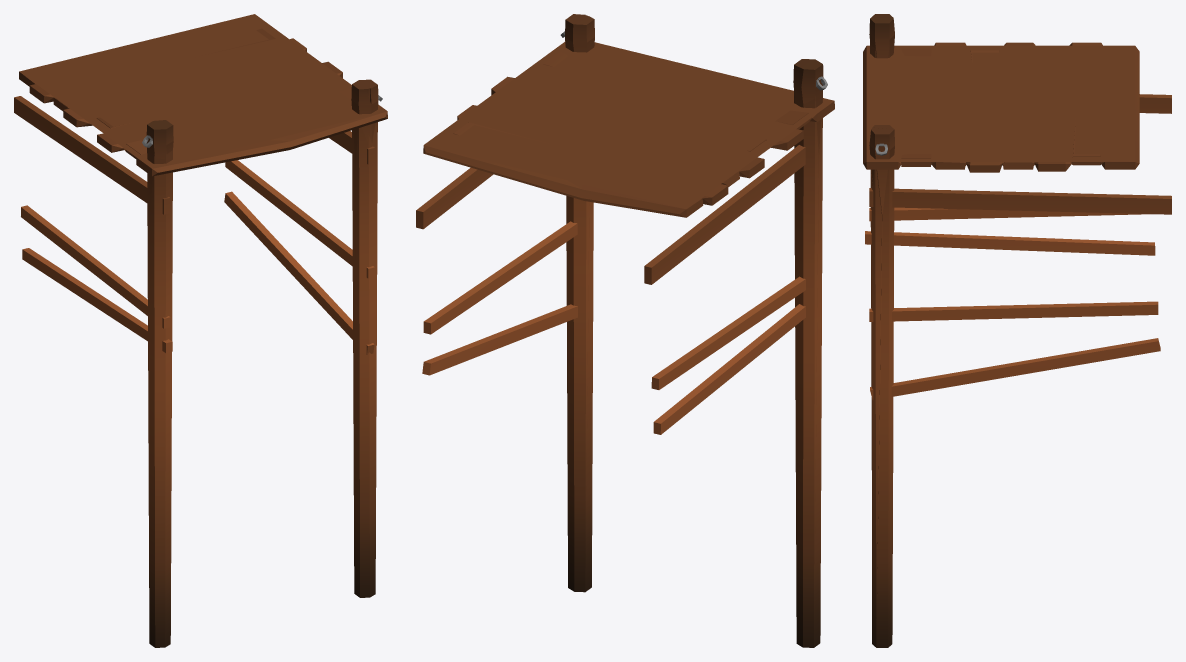
File: Dock 02.fbx
3 views of the same model, side by side, from view 1: azimuth 30°, elevation 25°; view 2: azimuth 150°, elevation 25°; view 3: azimuth 270°, elevation 25° (orthographic). The views are drawn at different scales.
Visible parts, largest first — view 1: Dock 02 low, Dock 02; view 2: Dock 02 low, Dock 02; view 3: Dock 02 low, Dock 02.
Part boxes in pixels (left/top/right/bottom): Dock 02 low: left=19, top=14, right=387, bottom=647; Dock 02: left=14, top=16, right=387, bottom=621; Dock 02 low: left=424, top=14, right=834, bottom=647; Dock 02: left=416, top=14, right=834, bottom=630; Dock 02 low: left=866, top=42, right=1135, bottom=647; Dock 02: left=863, top=14, right=1171, bottom=619.
Bounding box in the file's own units: 3.85 × 7.69 × 4.1.
1 material, 1 textured.
